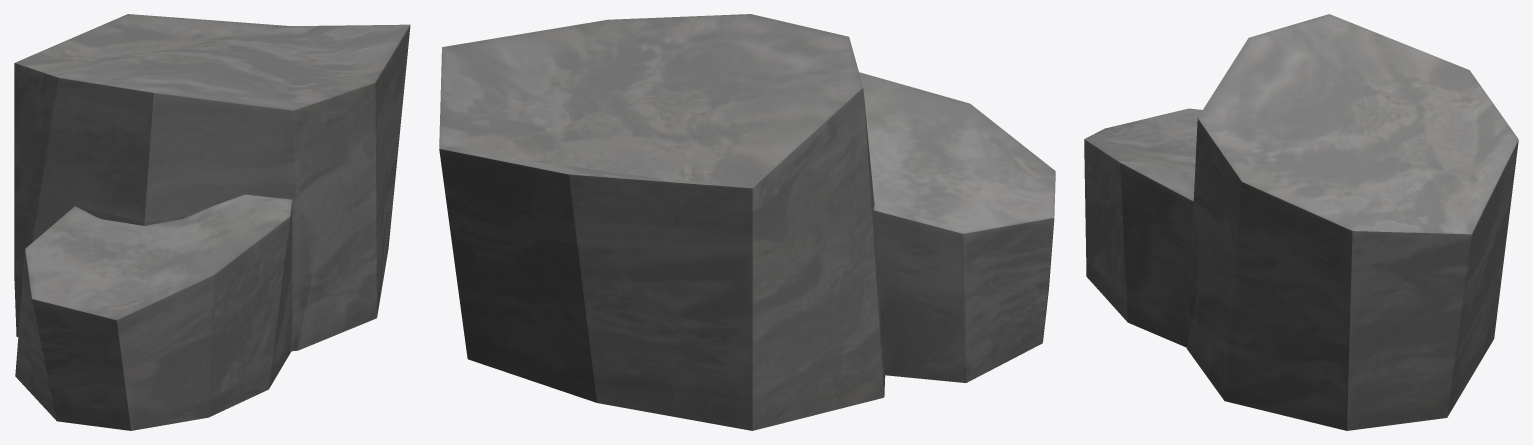
File: stone 1.fbx
3 views of the same model, side by side, from view 1: azimuth 30°, elevation 25°; view 2: azimuth 150°, elevation 25°; view 3: azimuth 270°, elevation 25° (orthographic). The views are drawn at different scales.
Visible parts, largest first — view 1: Cylinder.006; view 2: Cylinder.006; view 3: Cylinder.006.
Part boxes in pixels (x1,y1,x2,y2): Cylinder.006: (14,14,410,430); Cylinder.006: (439,14,1055,430); Cylinder.006: (1084,14,1518,430).
Bounding box in the file's own units: 860 × 483 × 715.
